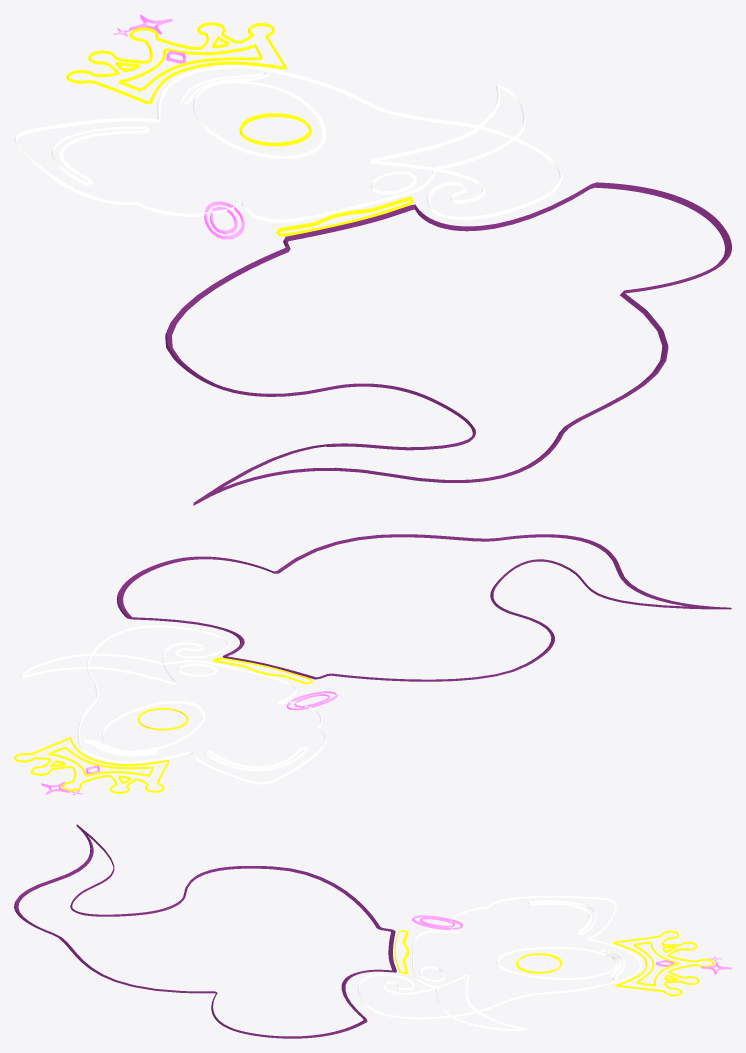
Rendered from genie.glb.
The picture shows the model from 3 angles, top to bottom: view 1: azimuth 30°, elevation 25°; view 2: azimuth 150°, elevation 25°; view 3: azimuth 270°, elevation 25°; orthographic projection. The views are drawn at different scales.
Parts seen in each view (by area): view 1: genie-wireframe; view 2: genie-wireframe; view 3: genie-wireframe.
Part boxes in pixels (x1,y1,x2,y2): genie-wireframe: (14,14,731,505); genie-wireframe: (14,534,731,795); genie-wireframe: (14,824,731,1038).
Bounding box in the file's own units: 6.48 × 0.0225 × 9.22.
